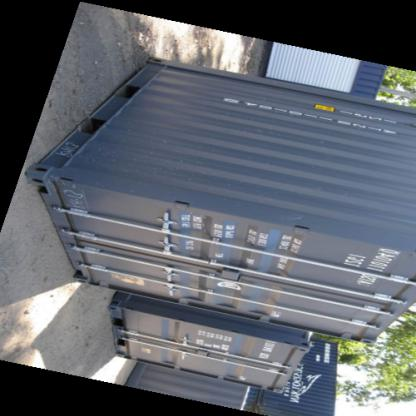Damage: (55, 176, 87, 212), (48, 139, 83, 167), (272, 208, 308, 228)
